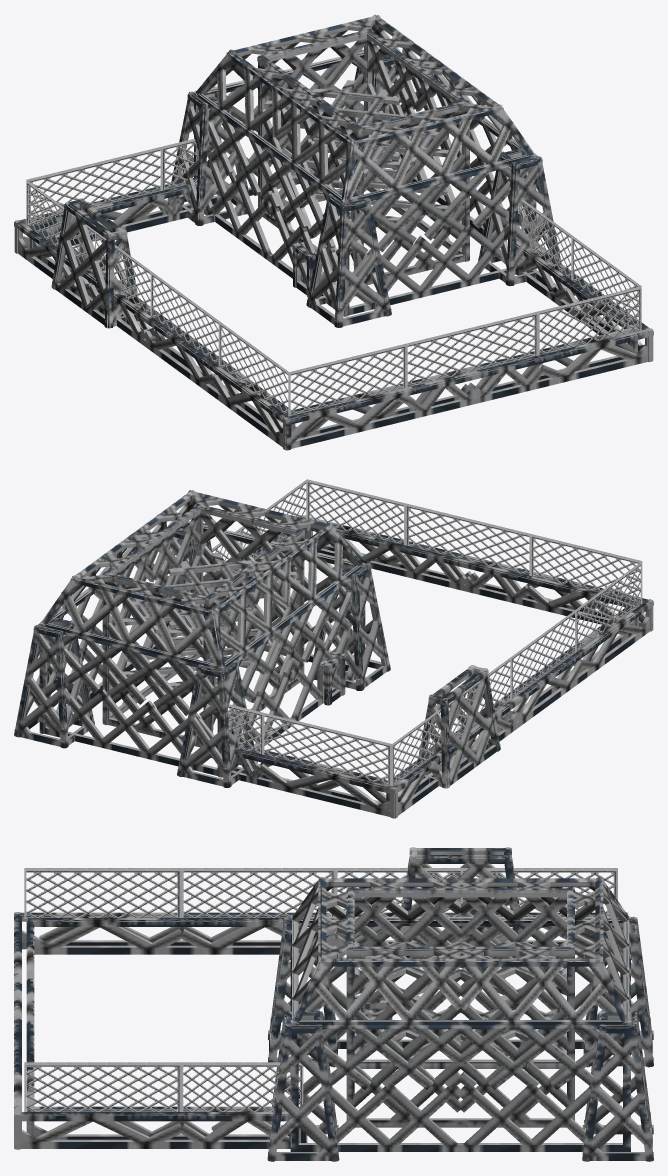
File: prison_cad.glb
The picture shows the model from 3 angles, top to bottom: view 1: azimuth 30°, elevation 25°; view 2: azimuth 150°, elevation 25°; view 3: azimuth 270°, elevation 25°; orthographic projection. The views are drawn at different scales.
Parts seen in each view (by area): view 1: Prison, chainlinks; view 2: Prison, chainlinks; view 3: Prison, chainlinks.
Boxes of the visible parts, x1,y1,x2,y2 form: Prison: (14, 14, 653, 450); chainlinks: (26, 138, 641, 416); Prison: (14, 490, 653, 818); chainlinks: (189, 479, 642, 786); Prison: (14, 847, 653, 1161); chainlinks: (24, 868, 617, 1111).
Bounding box in the file's own units: 33.08 × 12.81 × 40.67.
2 materials, 2 textured.
